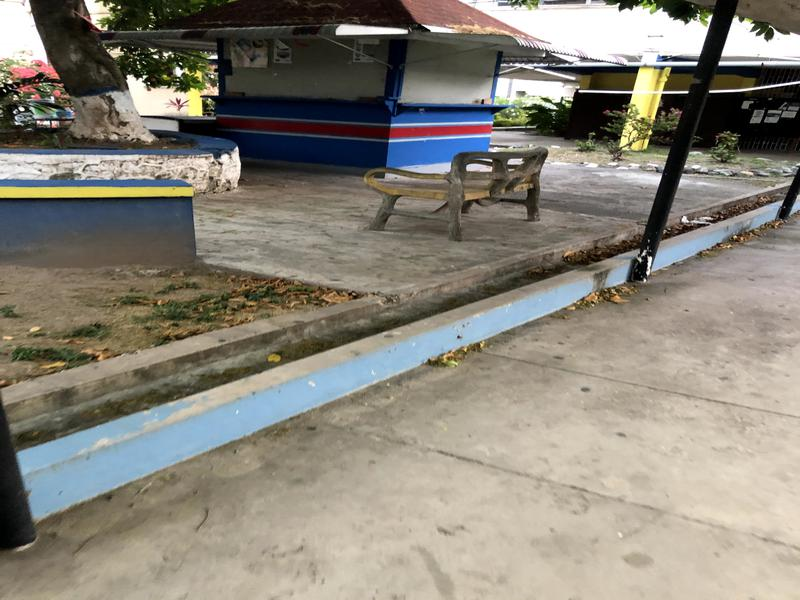18.0050864_-76.7496363_bench: (362, 128, 564, 249)
